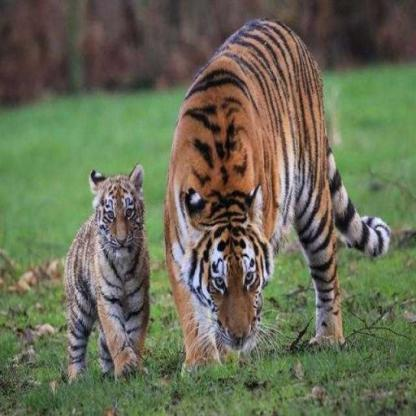Tiger: (142, 6, 400, 386), (34, 154, 160, 382)
